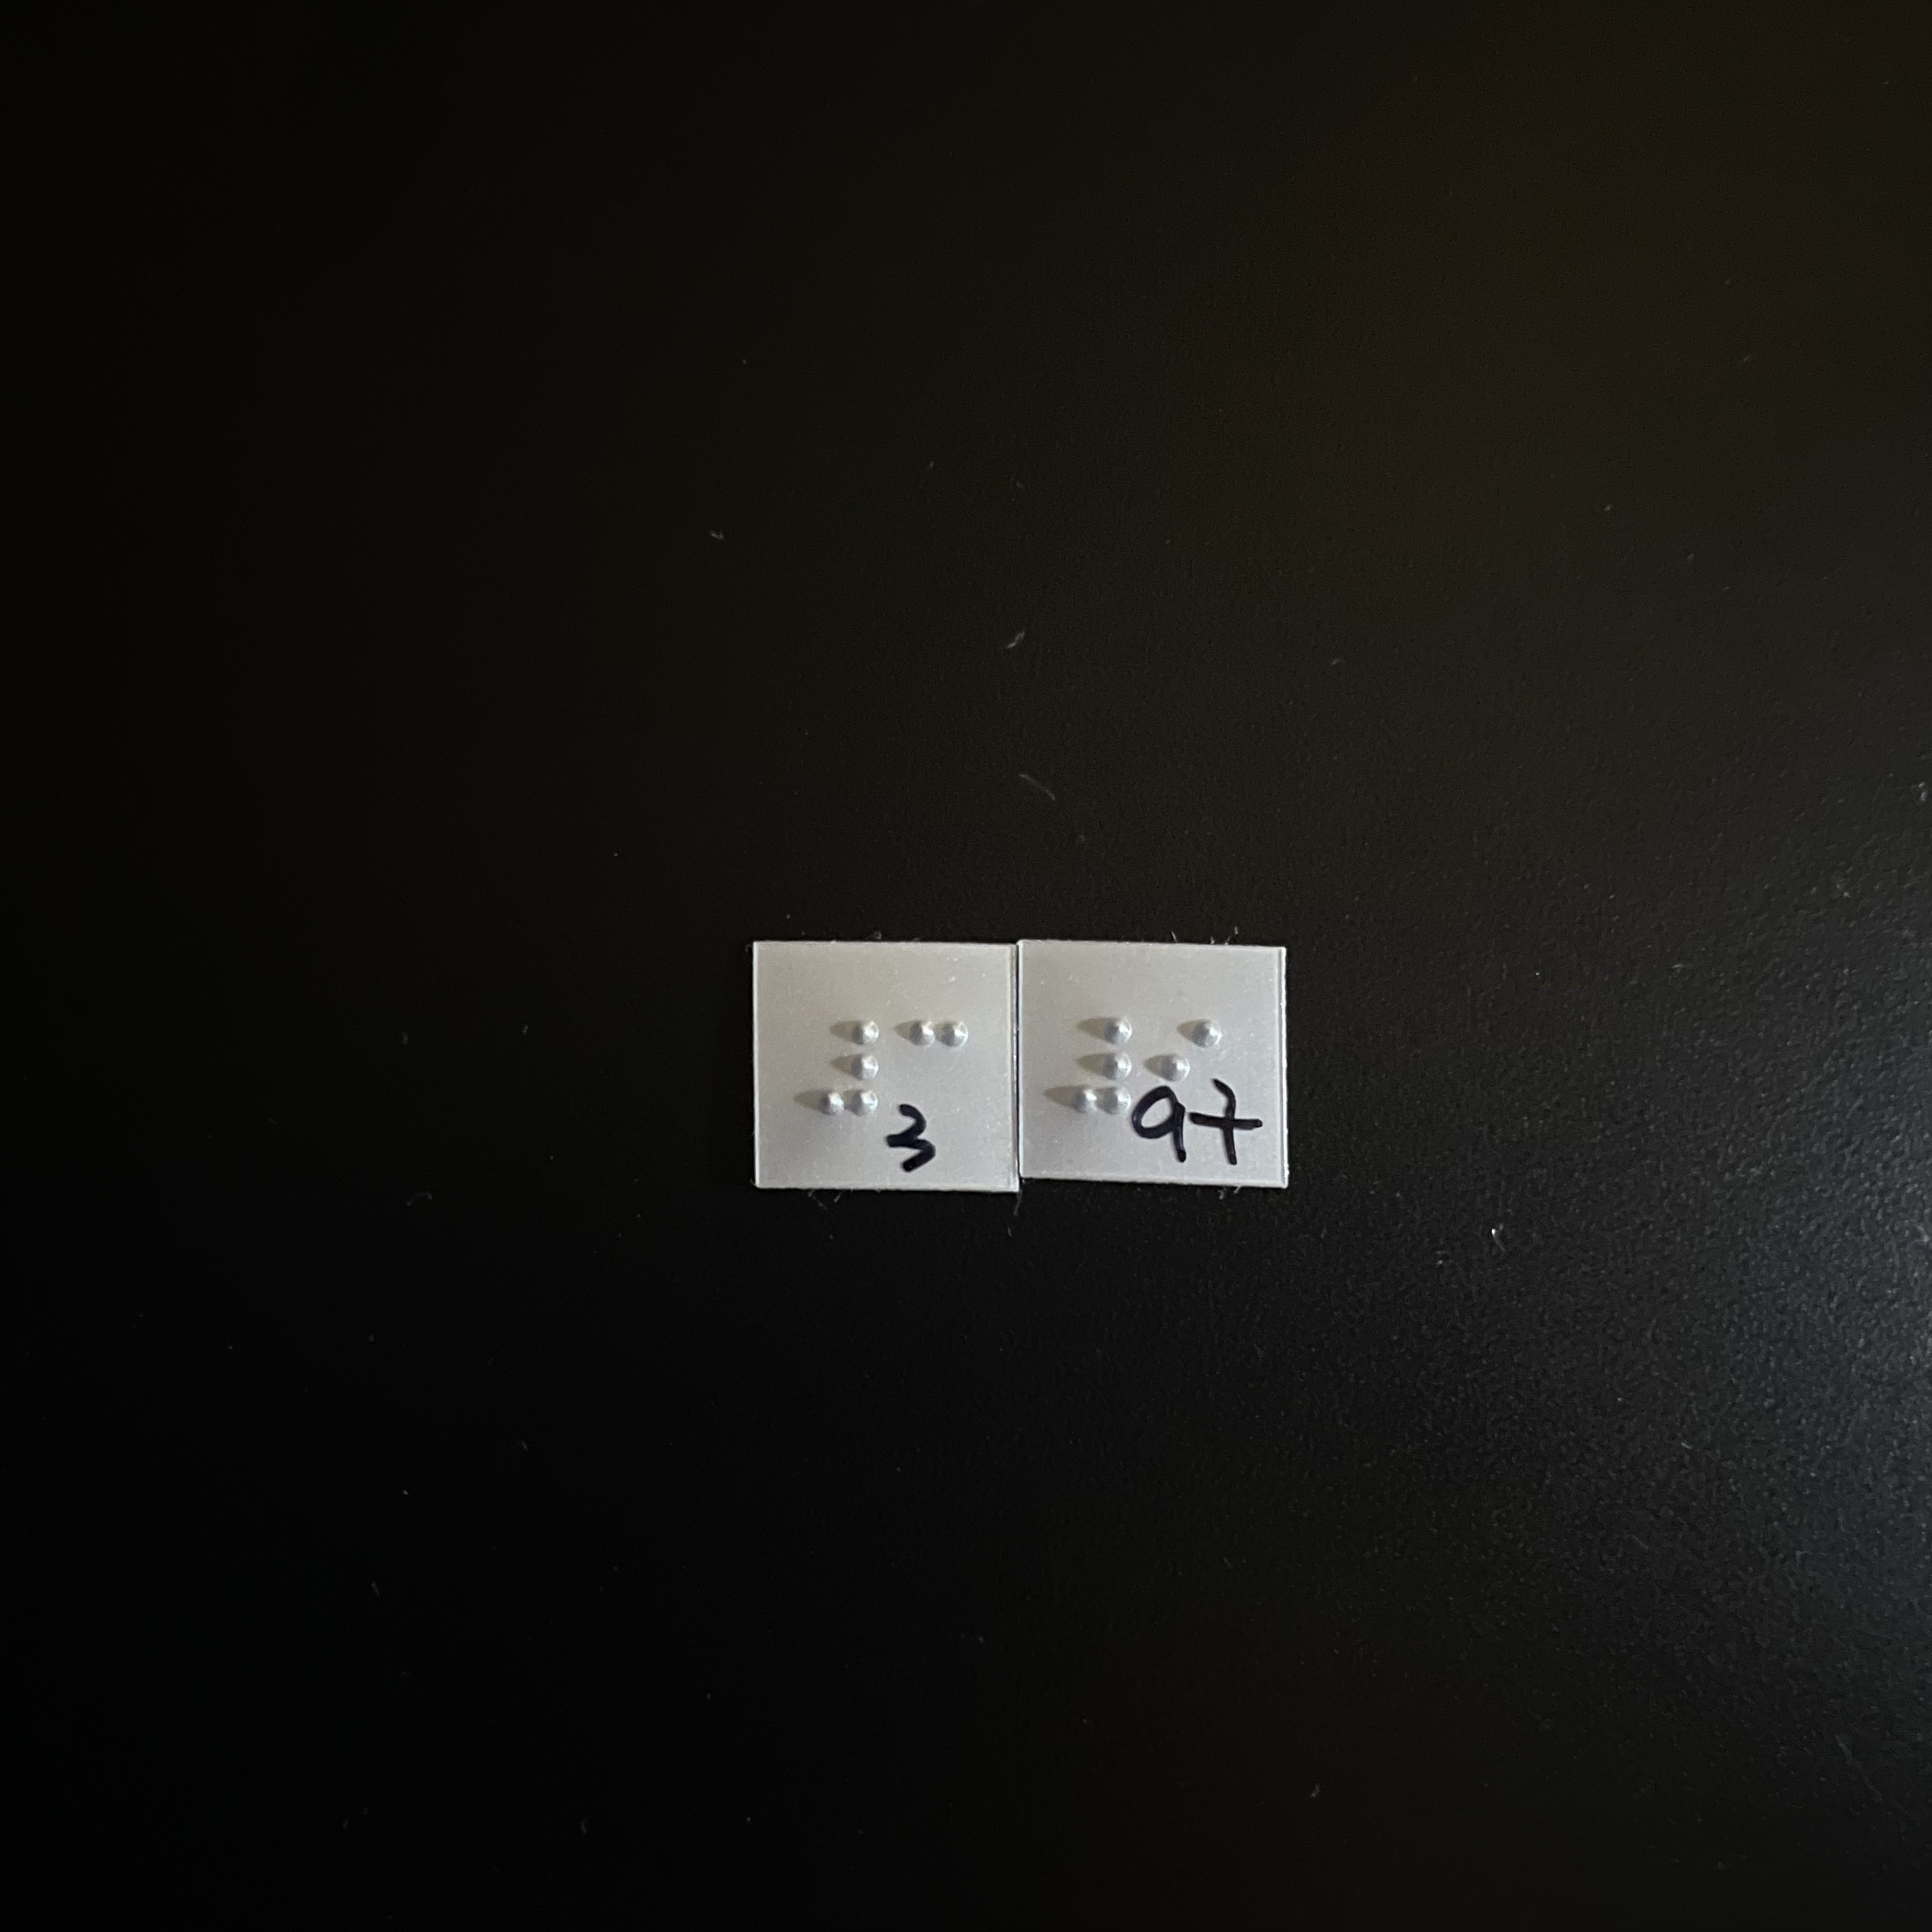#: (800, 1018, 888, 1130), (1055, 1013, 1148, 1121)
c: (891, 1022, 974, 1135)
i: (1151, 1013, 1232, 1130)
